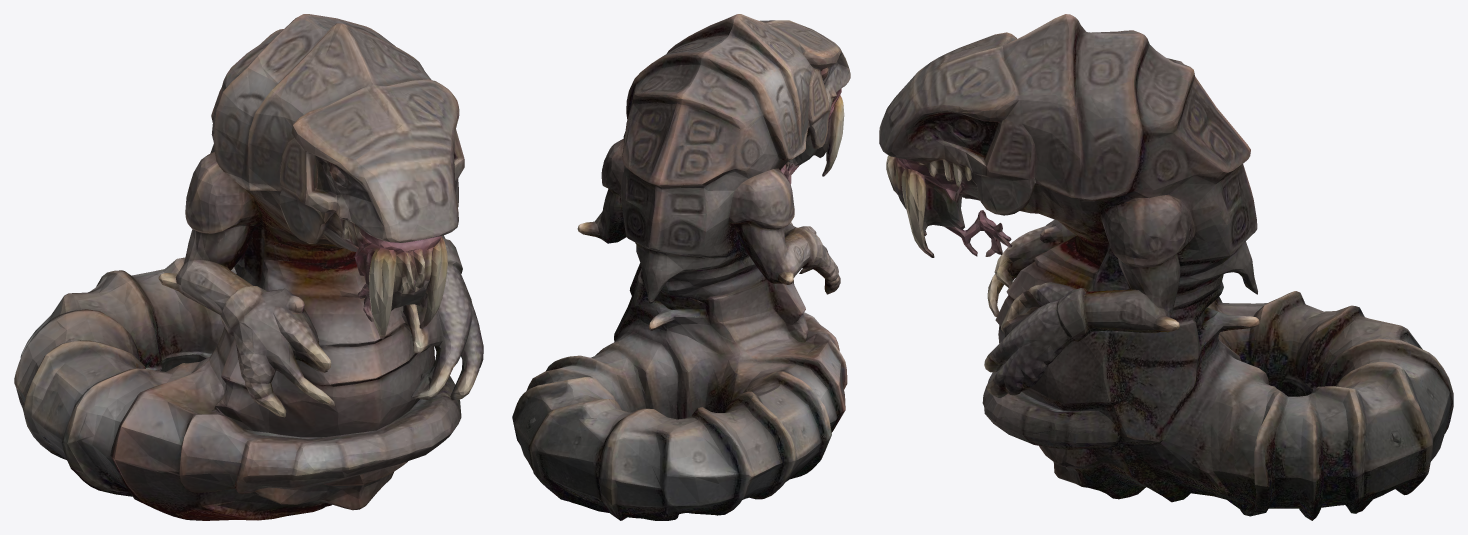
Rendered from gnawling.glb.
The picture shows the model from 3 angles, left to right: view 1: azimuth 30°, elevation 25°; view 2: azimuth 150°, elevation 25°; view 3: azimuth 270°, elevation 25°; orthographic projection. The views are drawn at different scales.
Visible parts, largest first — view 1: world; view 2: world; view 3: world.
Boxes of the visible parts, x1=… form: world: x1=14, y1=14, x2=483, y2=520; world: x1=512, y1=14, x2=850, y2=520; world: x1=879, y1=14, x2=1453, y2=520.
Size of the model in its own units: 0.648 by 0.9055 by 0.9987.
Materials: 1 (1 with a texture image).
